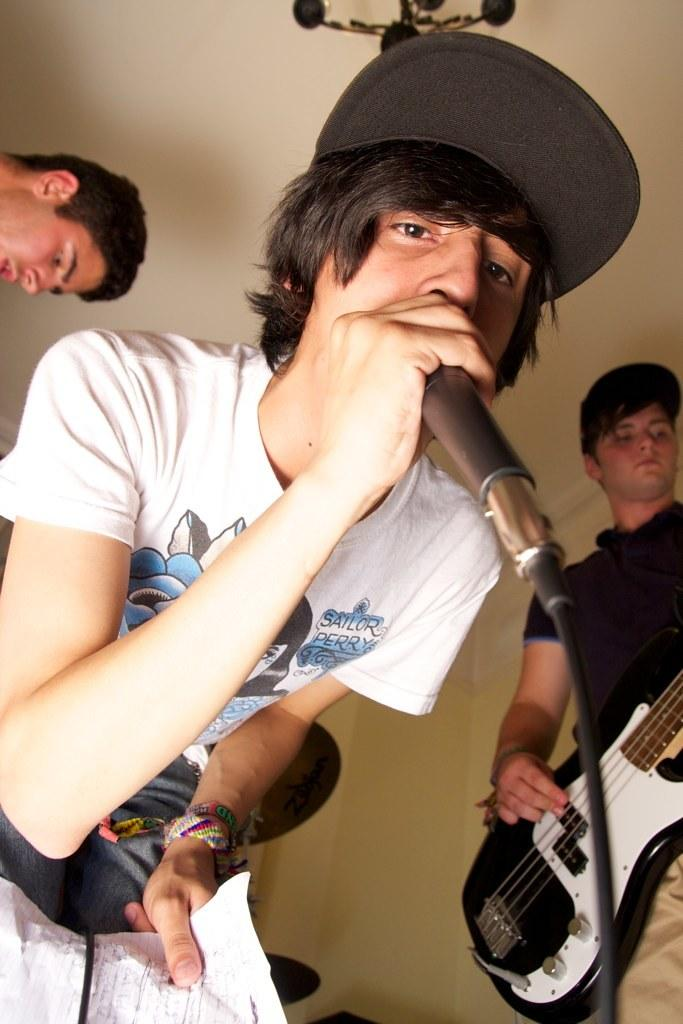Hat: (314, 29, 642, 311), (582, 358, 682, 460)
